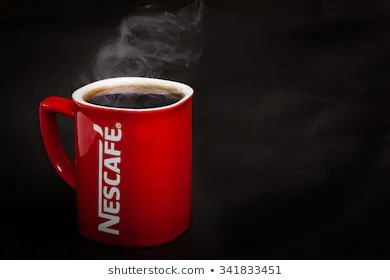nescafe-mug: (34, 79, 199, 240)
